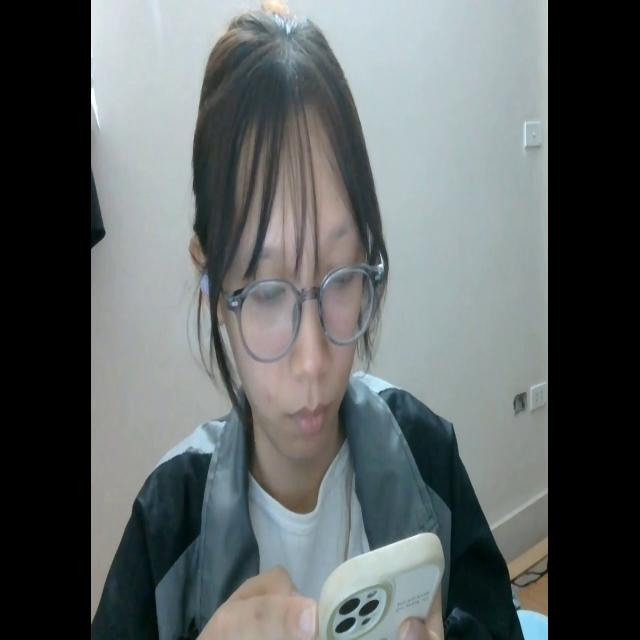phone: (314, 524, 444, 640)
student: (99, 15, 522, 640)
